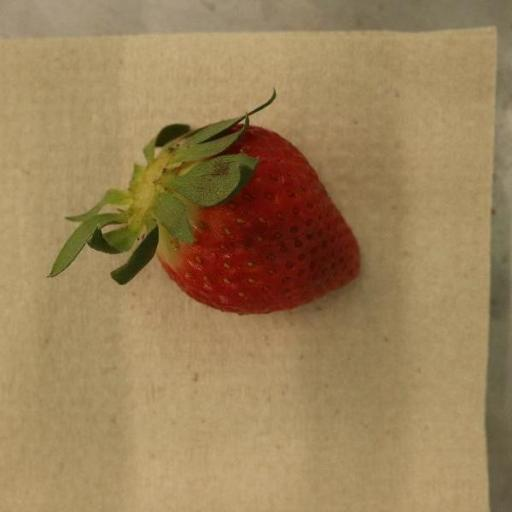Strawberry: (50, 92, 362, 316)
